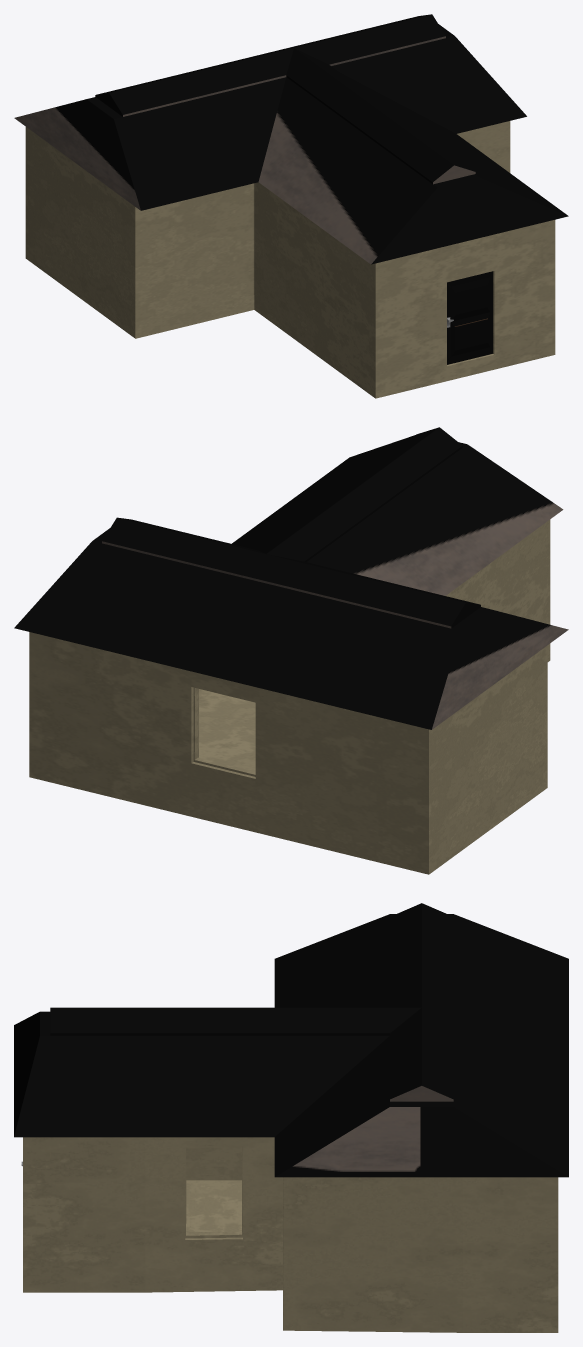
The model's file is House1.fbx.
3 views of the same model, one above another, from view 1: azimuth 30°, elevation 25°; view 2: azimuth 150°, elevation 25°; view 3: azimuth 270°, elevation 25° (orthographic). The views are drawn at different scales.
Visible parts, largest first — view 1: House1, Door; view 2: House1; view 3: House1.
Boxes of the visible parts, <box> form: House1: <box>14,14,568,398</box>; Door: <box>447,271,492,364</box>; House1: <box>14,427,568,874</box>; House1: <box>14,903,568,1332</box>.
Bounding box in the file's own units: 1627 × 815 × 1746.
